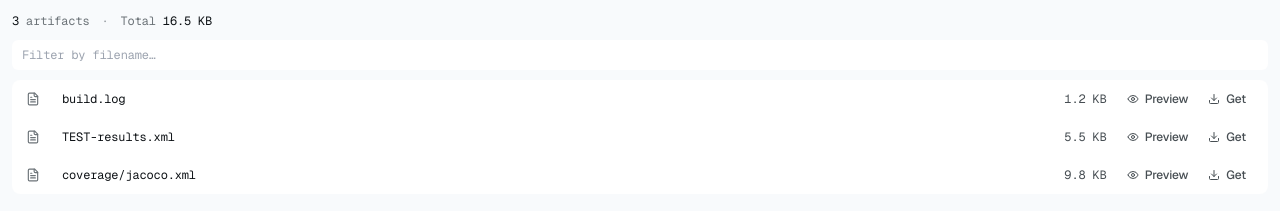
ArtifactsPanel v3 — restyle (#559) + signed download (#849) › filter input narrows rows by case-insensitive filename substring
Expected: the element with test id "artifact-row-1" is shown, [12,80,1268,118]
Expected: the element with test id "artifact-row-2" is shown, [12,118,1268,156]
In the search field with test id "artifacts-filter": (640, 55) [12,40,1268,70], type "XML"
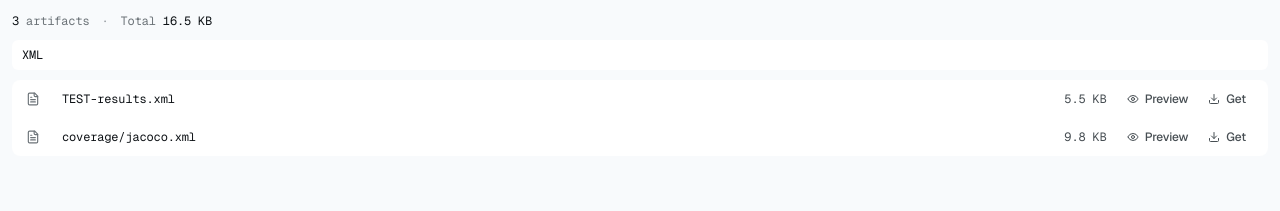
Expected: the element with test id "artifact-row-2" is shown, [12,80,1268,118]
Now the element with test id "artifact-row-1" is gone
// Narrower filter: only one match.
Replace the text in the search field with test id "artifacts-filter" with "jacoco": (640, 55) [12,40,1268,70]
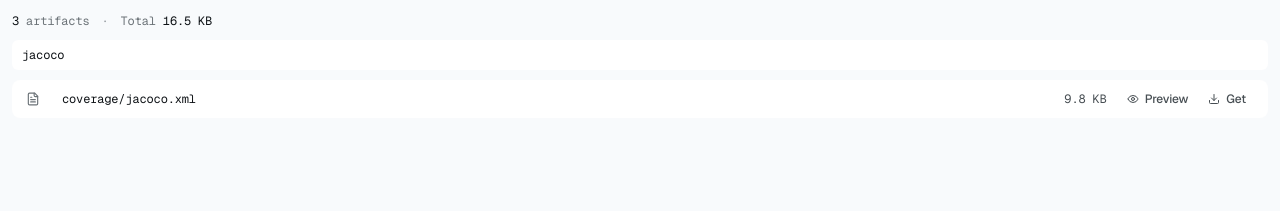
Expected: the element with test id "artifact-row-3" is shown, [12,80,1268,118]
Now the element with test id "artifact-row-2" is gone
